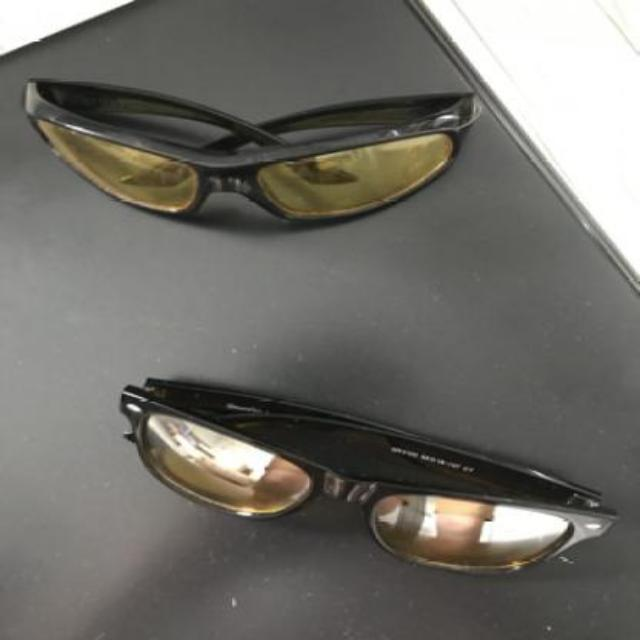glasses: (117, 376, 618, 580), (18, 74, 480, 224)
